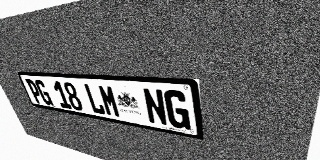1: (51, 81, 72, 109)
8: (62, 82, 84, 111)
G: (163, 89, 191, 130), (34, 80, 54, 106)
L: (83, 83, 106, 115)
M: (97, 84, 121, 118)
N: (142, 88, 168, 126)
P: (25, 79, 44, 104)
